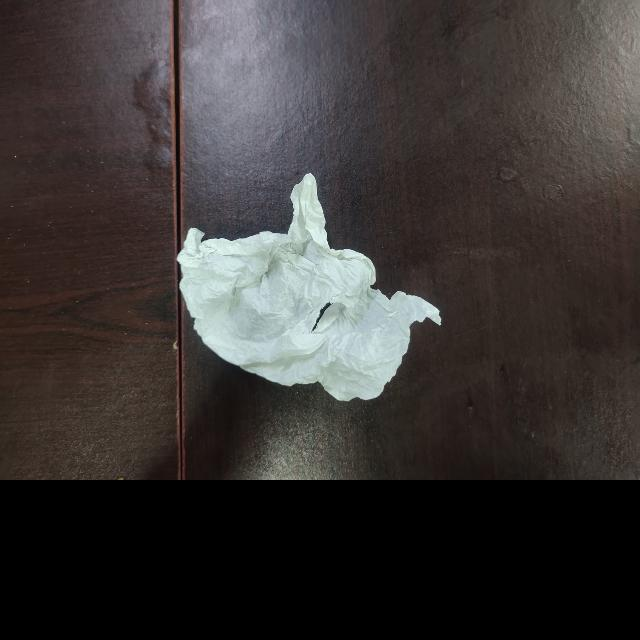kitchen paper: (174, 169, 448, 406)
